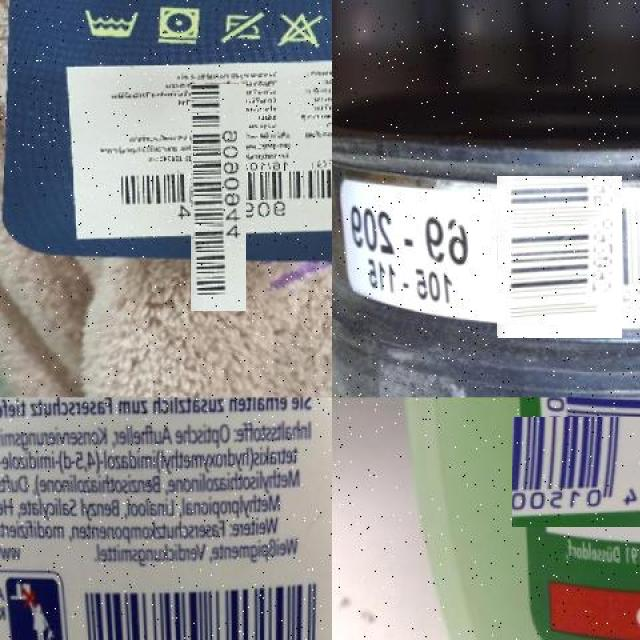Barcode: (487, 185, 631, 329), (148, 127, 289, 268), (76, 572, 332, 640), (520, 408, 640, 537)
